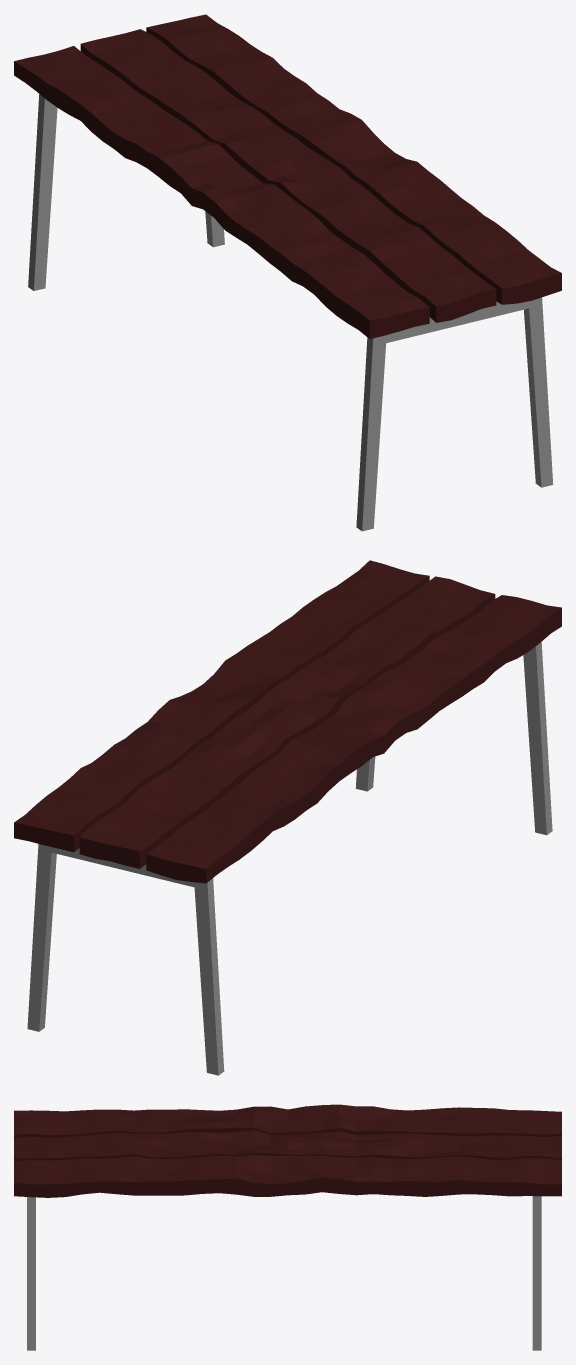
The model's file is с cum ейка.fbx.
3 renders of one model, top to bottom at view 1: azimuth 30°, elevation 25°; view 2: azimuth 150°, elevation 25°; view 3: azimuth 270°, elevation 25°, orthographic. The views are drawn at different scales.
Visible parts, largest first — view 1: Куб.002, Плоскость.001, Плоскость; view 2: Куб.002, Плоскость, Плоскость.001; view 3: Куб.002, Плоскость, Плоскость.001.
Boxes of the visible parts, x1,y1,x2,y2 form: Куб.002: (14,14,561,338); Плоскость.001: (356,297,553,531); Плоскость: (28,94,224,290); Куб.002: (14,560,561,883); Плоскость: (27,844,224,1075); Плоскость.001: (355,642,552,835); Куб.002: (14,1104,561,1197); Плоскость: (532,1196,541,1350); Плоскость.001: (27,1197,35,1350).
Size of the model in its own units: 201 by 226 by 645.
